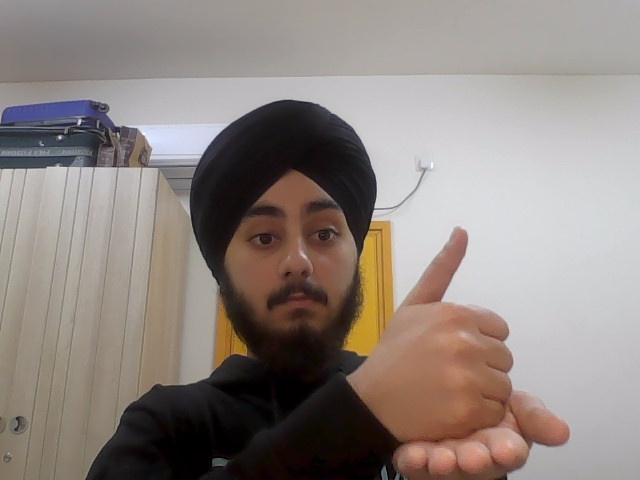Help: (384, 225, 574, 476)
